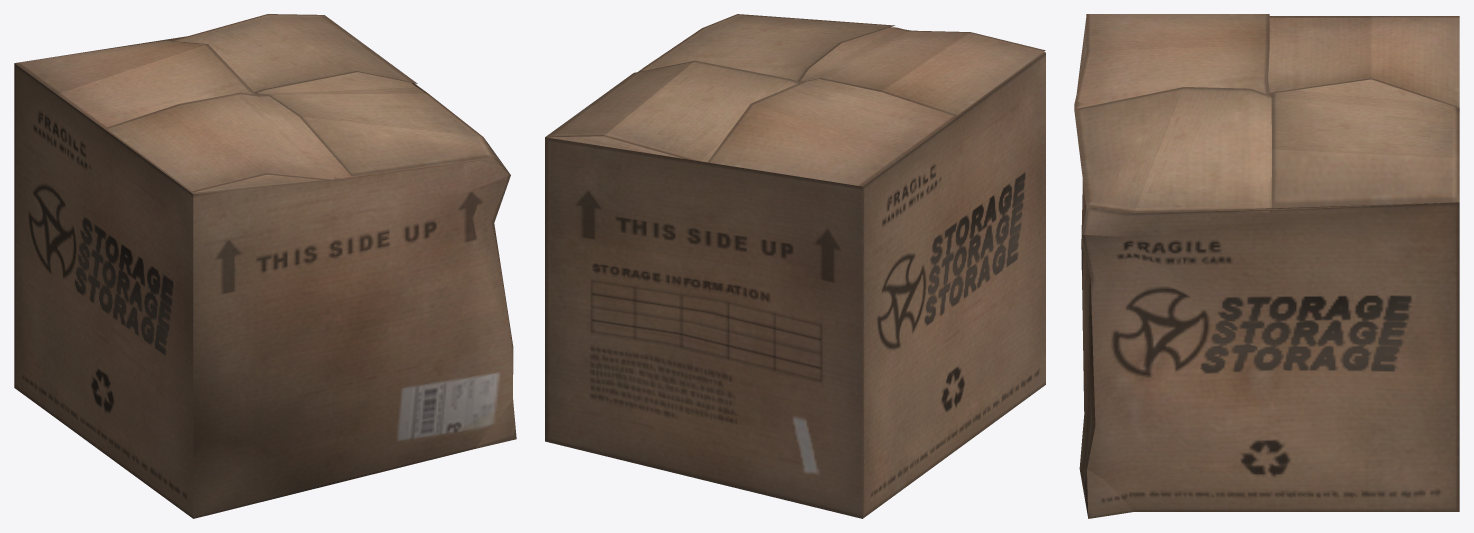
3 views of the same model, side by side, from view 1: azimuth 30°, elevation 25°; view 2: azimuth 150°, elevation 25°; view 3: azimuth 270°, elevation 25° (orthographic). The views are drawn at different scales.
Parts seen in each view (by area): view 1: Box_15; view 2: Box_15; view 3: Box_15.
Part boxes in pixels (left/top/right/bottom): Box_15: left=14, top=14, right=516, bottom=518; Box_15: left=545, top=14, right=1045, bottom=518; Box_15: left=1074, top=14, right=1459, bottom=518.
Size of the model in its own units: 52.69 by 52.01 by 51.62.
